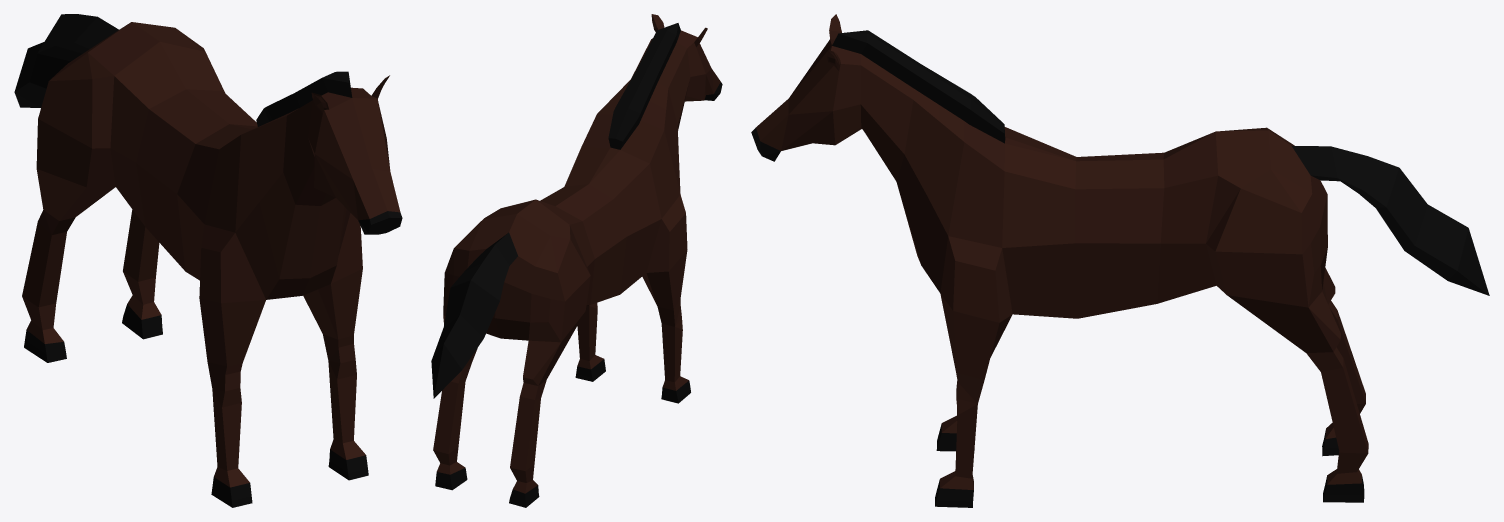
File: Horse_000034.obj
3 renders of one model, left to right at view 1: azimuth 30°, elevation 25°; view 2: azimuth 150°, elevation 25°; view 3: azimuth 270°, elevation 25°, orthographic. The views are drawn at different scales.
Visible parts, largest first — view 1: Horse_Cylinder; view 2: Horse_Cylinder; view 3: Horse_Cylinder.
Part boxes in pixels (x1,y1,x2,y2): Horse_Cylinder: (14, 14, 402, 507); Horse_Cylinder: (431, 14, 722, 507); Horse_Cylinder: (751, 14, 1489, 507).
Size of the model in its own units: 2.56 by 6.85 by 10.39.
